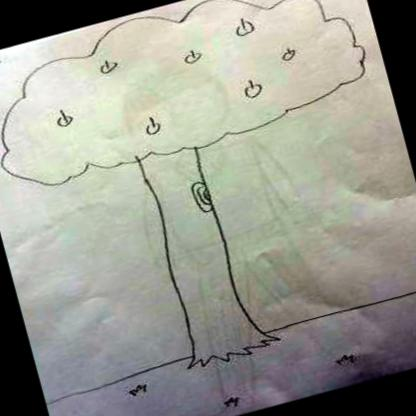apple: (94, 54, 124, 78), (229, 16, 259, 39), (50, 104, 77, 128), (276, 46, 304, 66), (242, 78, 266, 100), (180, 48, 205, 68), (144, 115, 166, 137)
crown_cloud: (0, 0, 382, 202)
knot: (187, 175, 223, 217)
root_upside: (156, 310, 318, 388)
trunk_straight: (146, 200, 254, 322)
